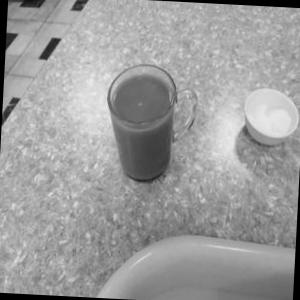coffee: (82, 49, 202, 183)
